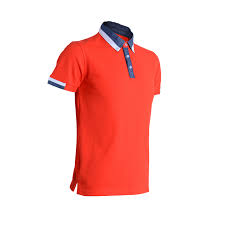S_polo shirt: (47, 24, 172, 198)
